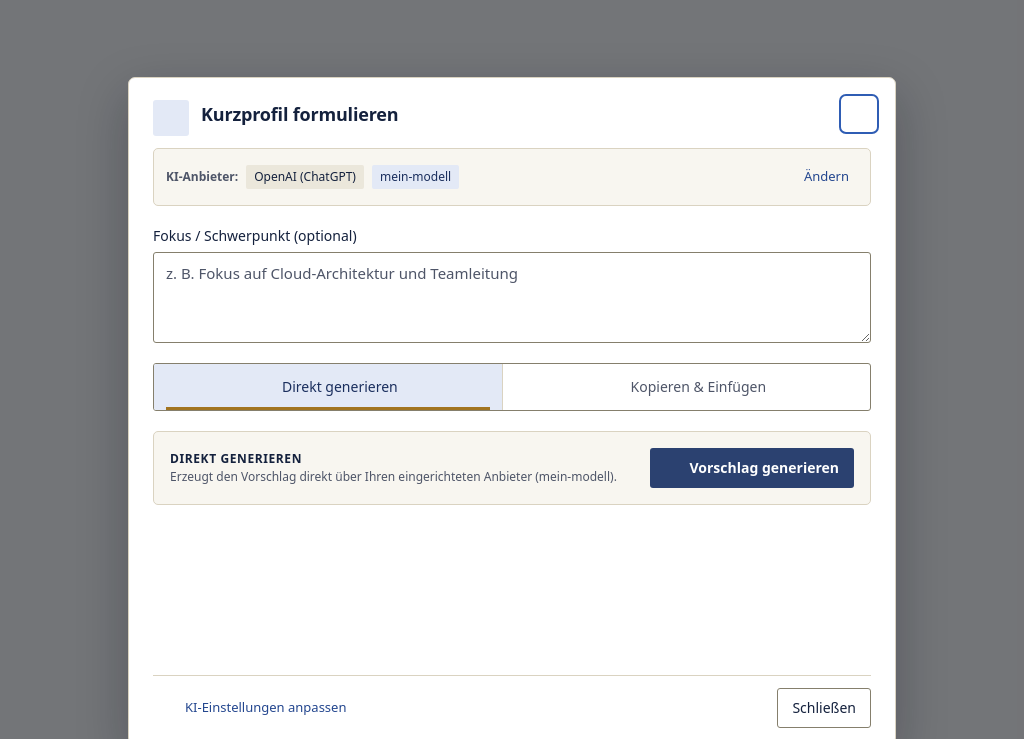
it: assistant: every task has the copy and paste way › offers copy and paste next to direct generation when a service is set up
The width and height of the screenshot is (1024, 739).
Expected: the button "undefined Vorschlag generieren" is shown, [650,448,854,488]
Note: ... and the other way is one click away.
Click the radio button labelled "Kopieren & Einfügen".
click(686, 387)  # box [502,364,870,410]
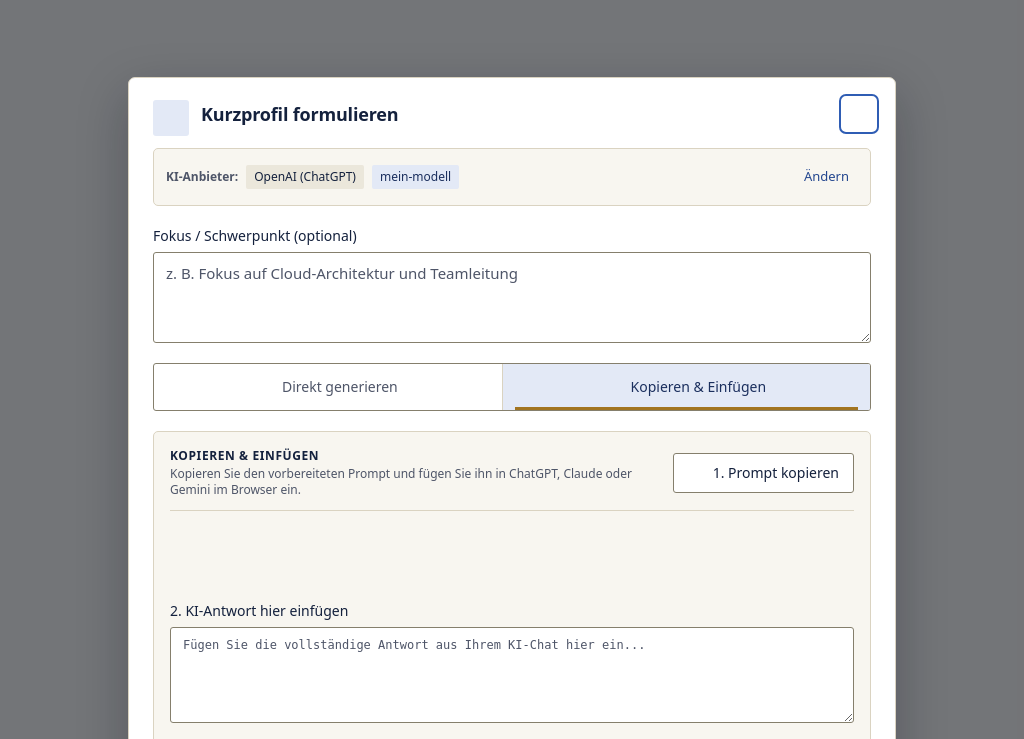
Expected: the button "undefined 1. Prompt kopieren" is shown, [673,453,854,493]
Expected: the button "Vorschlag generieren" is gone
